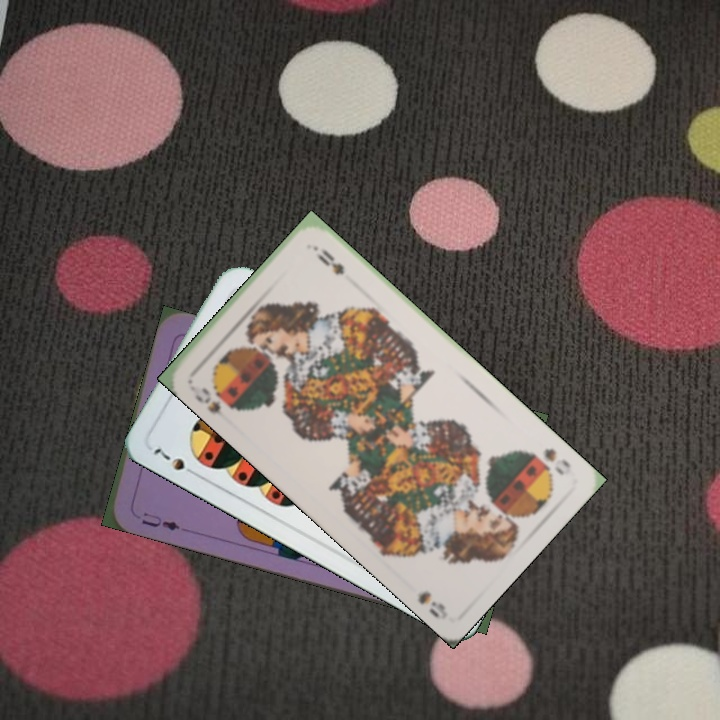EU: (137, 508, 183, 534)
S7: (149, 444, 201, 479)
SO: (190, 383, 241, 426), (540, 444, 574, 478)
